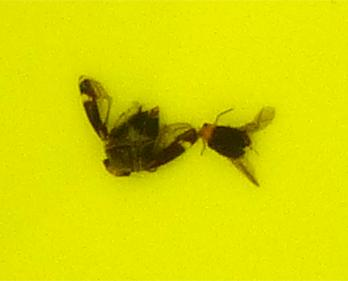Coleoptera: (191, 117, 248, 157)
Hemiptera: (100, 100, 160, 181)
